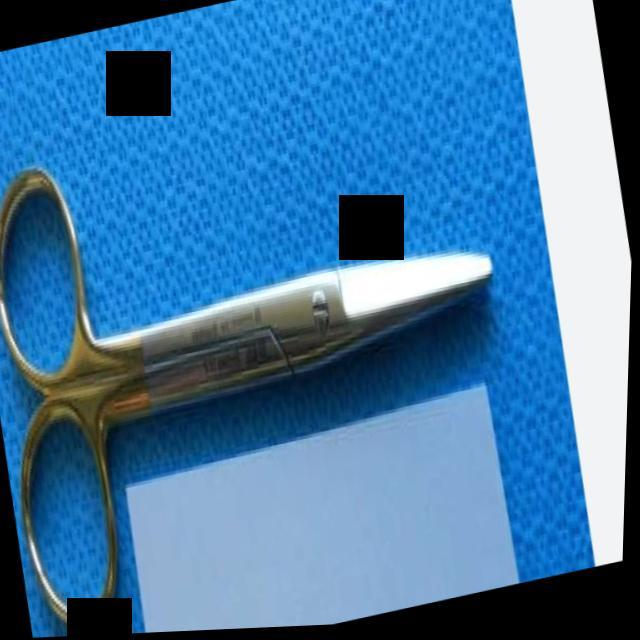Straight Mayo: (0, 64, 549, 640)
